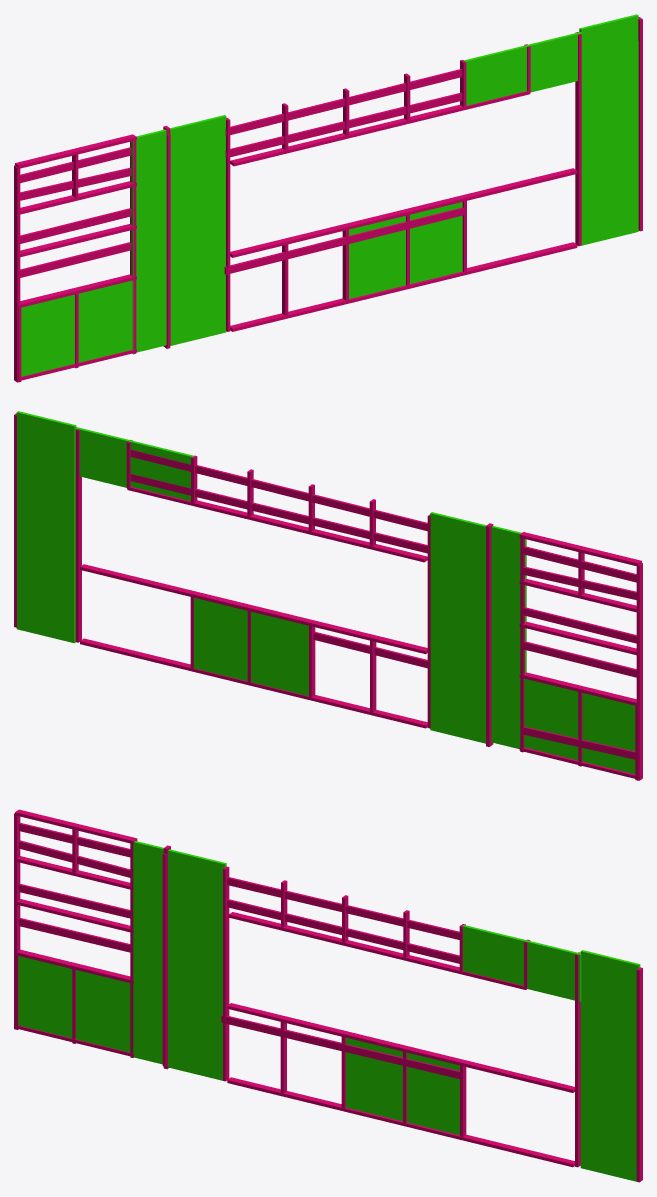
Rendered from BH03_Wall_01_Break_B2.fbx.
The picture shows the model from 3 angles, top to bottom: view 1: azimuth 30°, elevation 25°; view 2: azimuth 150°, elevation 25°; view 3: azimuth 330°, elevation 25°; orthographic projection.
Visible parts, largest first — view 1: BH03_Wall_01_Break_B2; view 2: BH03_Wall_01_Break_B2; view 3: BH03_Wall_01_Break_B2.
Part boxes in pixels (box(x1,y1,x2,y2)): BH03_Wall_01_Break_B2: box(14, 14, 642, 382); BH03_Wall_01_Break_B2: box(14, 411, 642, 780); BH03_Wall_01_Break_B2: box(14, 809, 642, 1182).
Size of the model in its own units: 907 by 305 by 12.27.
